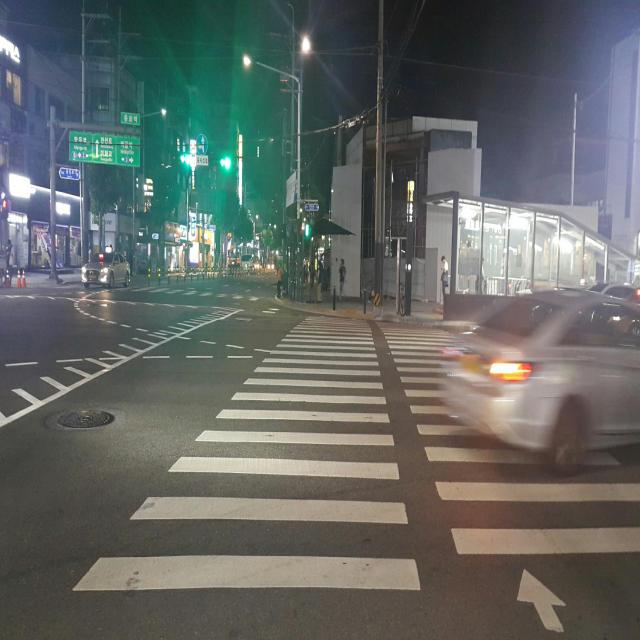횡단보도: (69, 308, 640, 640), (117, 282, 271, 305)
